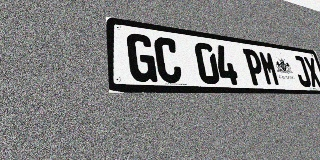0: (194, 42, 221, 84)
4: (213, 44, 239, 85)
C: (153, 36, 183, 83)
G: (126, 33, 158, 82)
J: (291, 55, 312, 87)
M: (258, 50, 281, 86)
P: (243, 48, 266, 86)
X: (303, 57, 320, 87)
